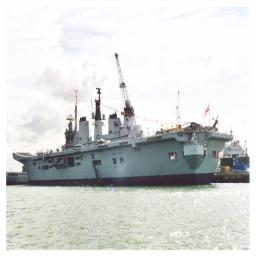Portanaves: (12, 84, 236, 189)
